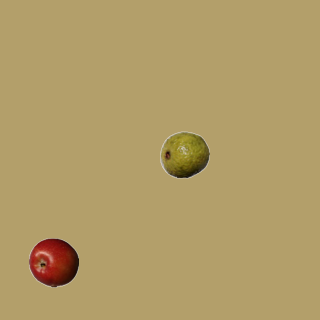Apple Braeburn: (28, 237, 78, 287)
Guava: (159, 129, 209, 179)
